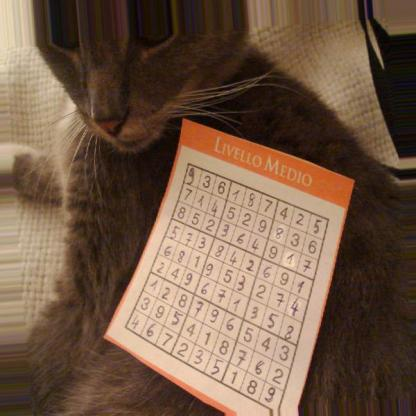sudoku: (122, 158, 333, 411)
